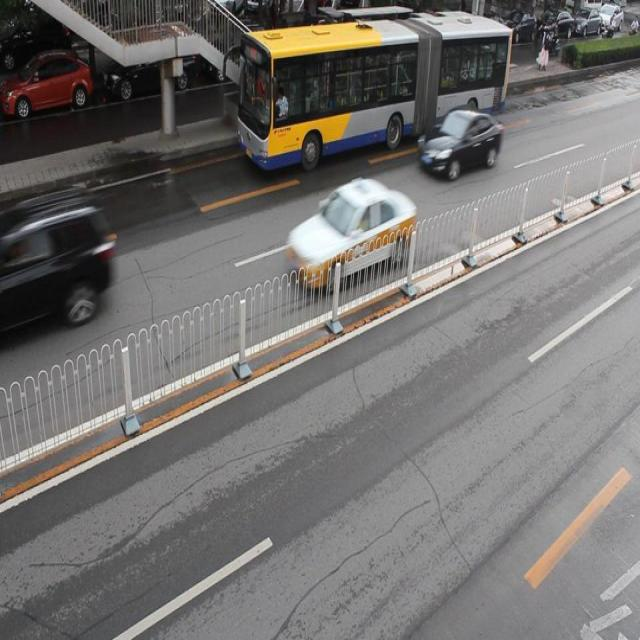car: (286, 176, 414, 289), (419, 104, 502, 178), (1, 51, 92, 116), (103, 37, 195, 96), (205, 22, 270, 83), (288, 22, 353, 76)
truck: (0, 190, 110, 340)
van: (239, 10, 511, 170)
